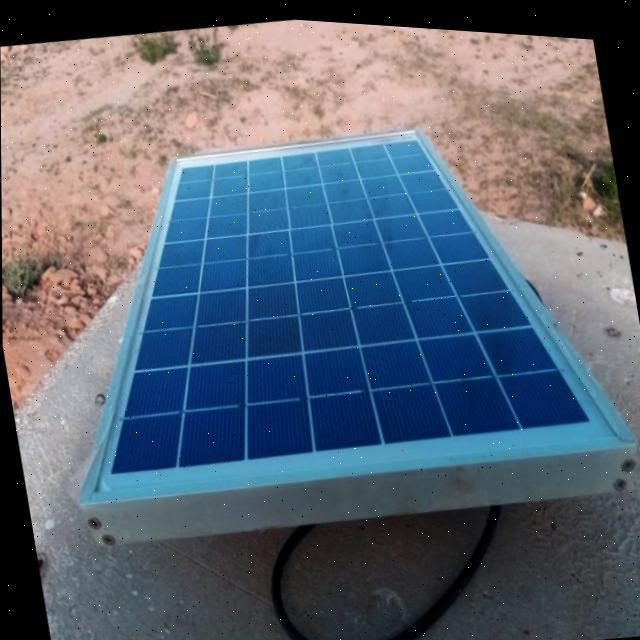Normal Solar Panel: (28, 78, 633, 532)
